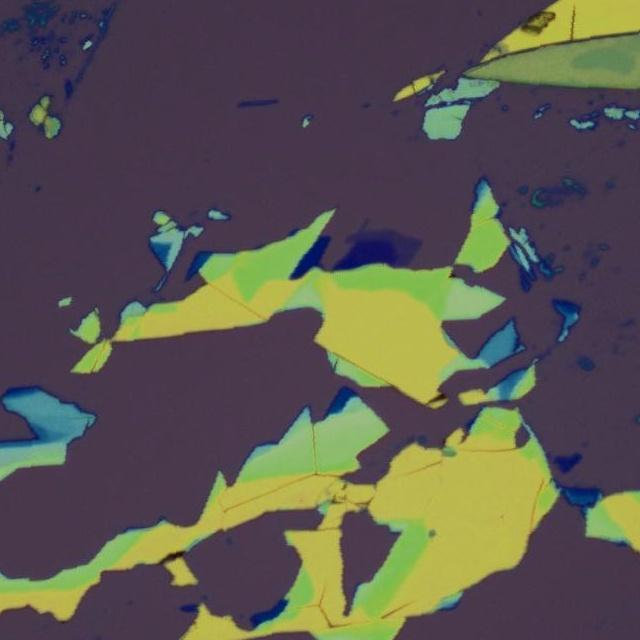monolayer-eWW4: (354, 226, 424, 268)
